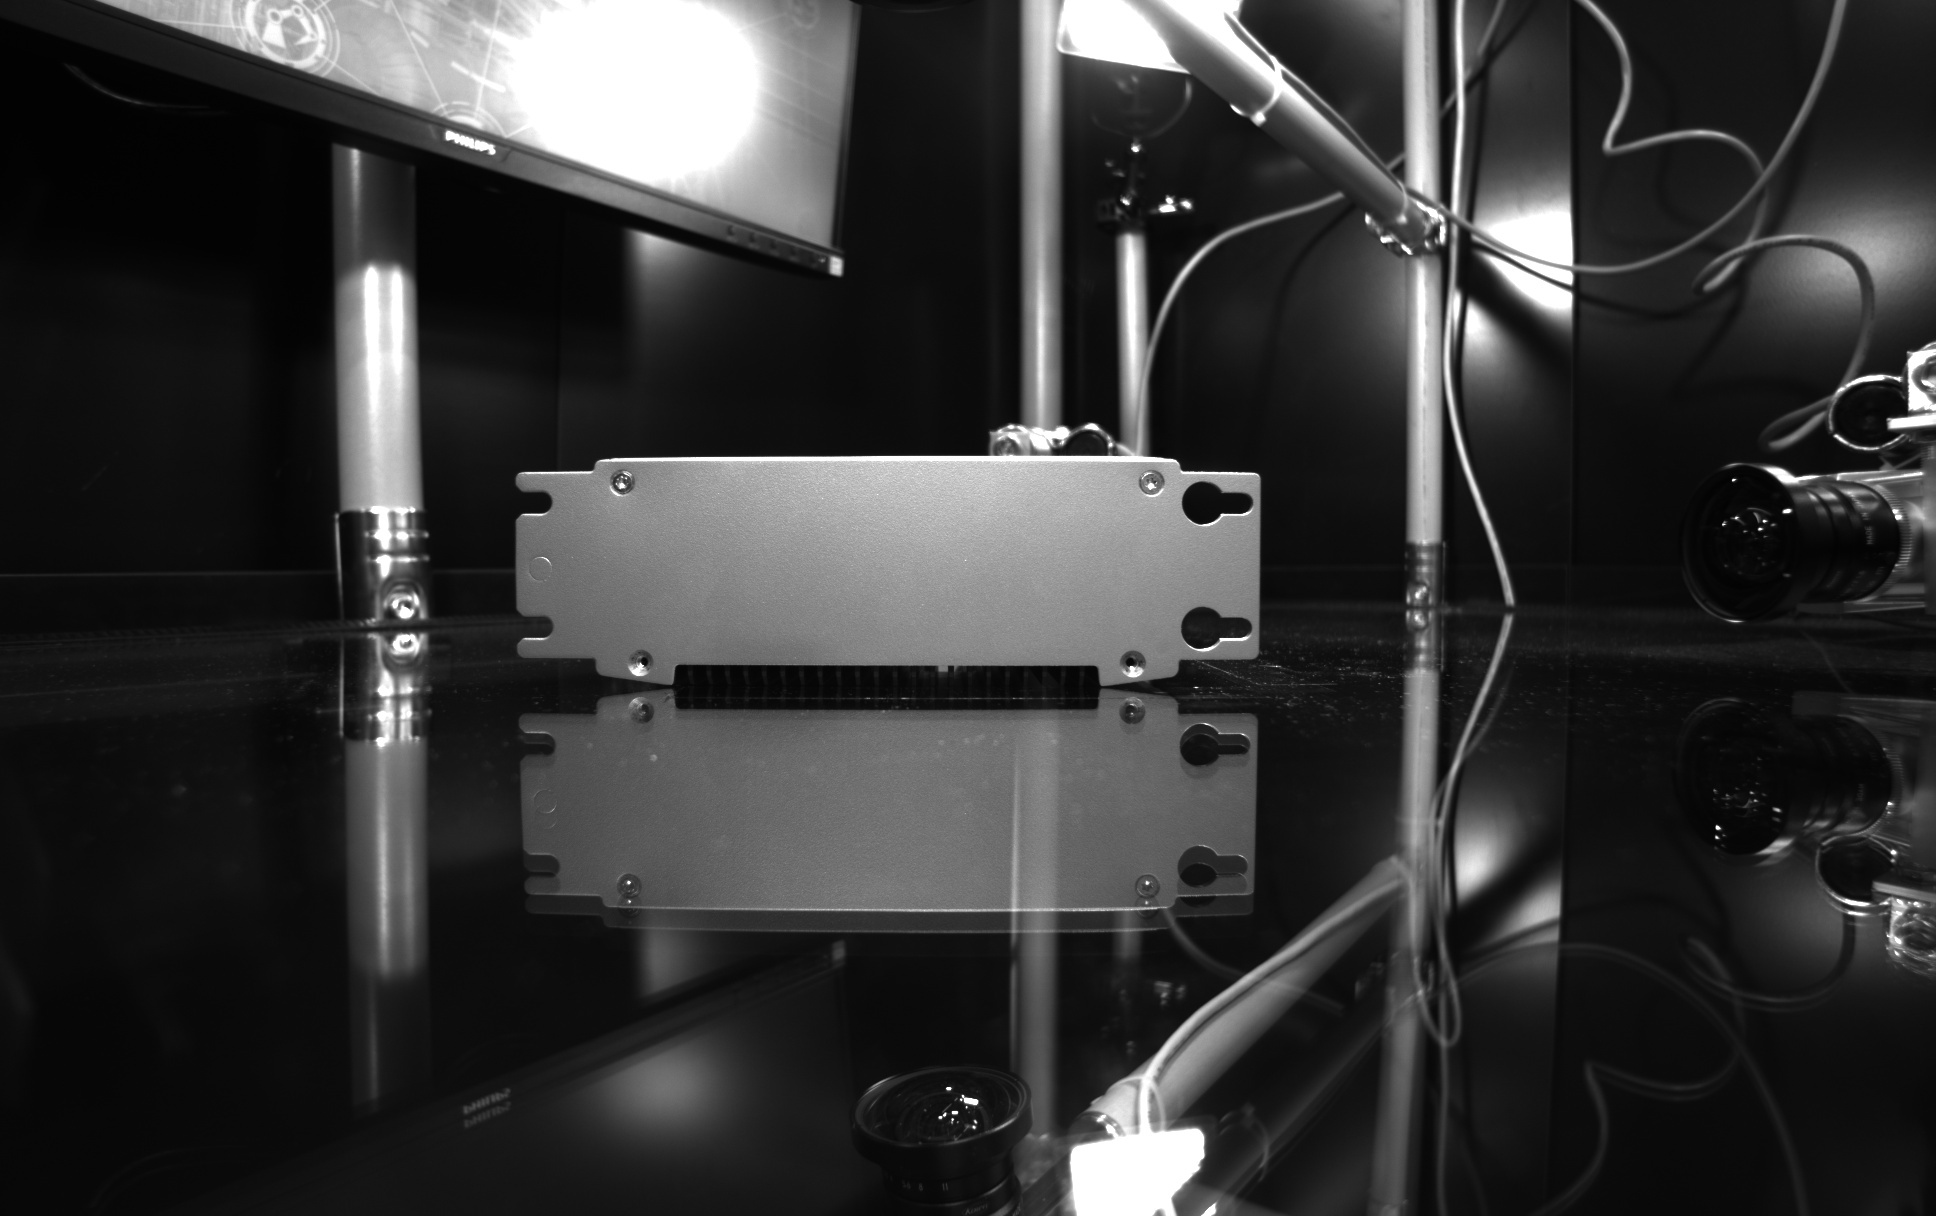CamBack: (485, 434, 1293, 686)
Loch: (622, 643, 661, 682), (1114, 644, 1153, 684)
Schraube: (1133, 460, 1170, 500), (604, 465, 642, 502)
Schraube_gespiegelt: (1126, 867, 1168, 929), (609, 867, 649, 927)
